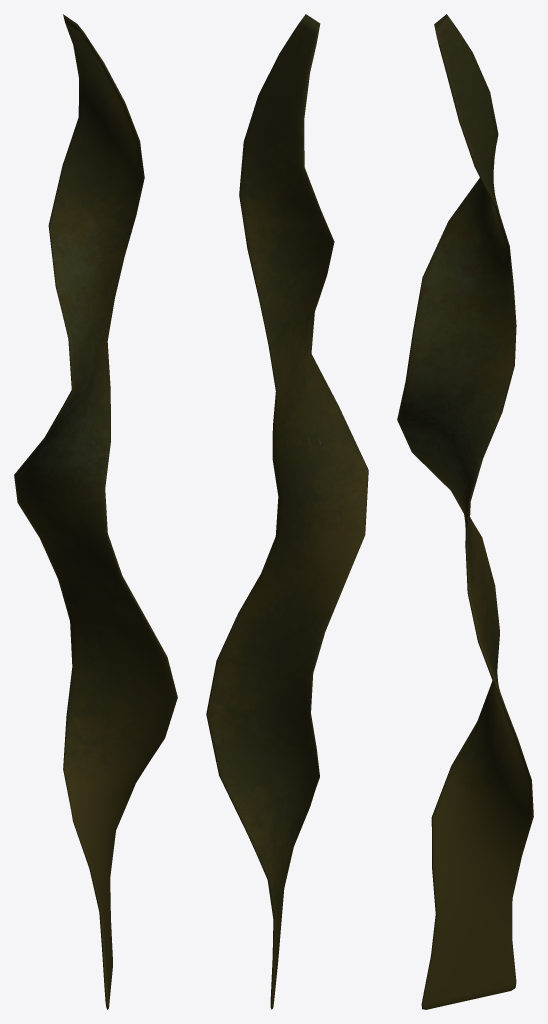
The model's file is curlyBladeOfSeaweed_edit_for_FBX.fbx.
3 views of the same model, side by side, from view 1: azimuth 30°, elevation 25°; view 2: azimuth 210°, elevation 25°; view 3: azimuth 330°, elevation 25° (orthographic).
Parts seen in each view (by area): view 1: seaweed01; view 2: seaweed01; view 3: seaweed01.
Part boxes in pixels (x1,y1,x2,y2): seaweed01: [14, 14, 177, 1009]; seaweed01: [206, 14, 368, 1009]; seaweed01: [397, 14, 533, 1009].
Size of the model in its own units: 29.2 by 200 by 23.72.
